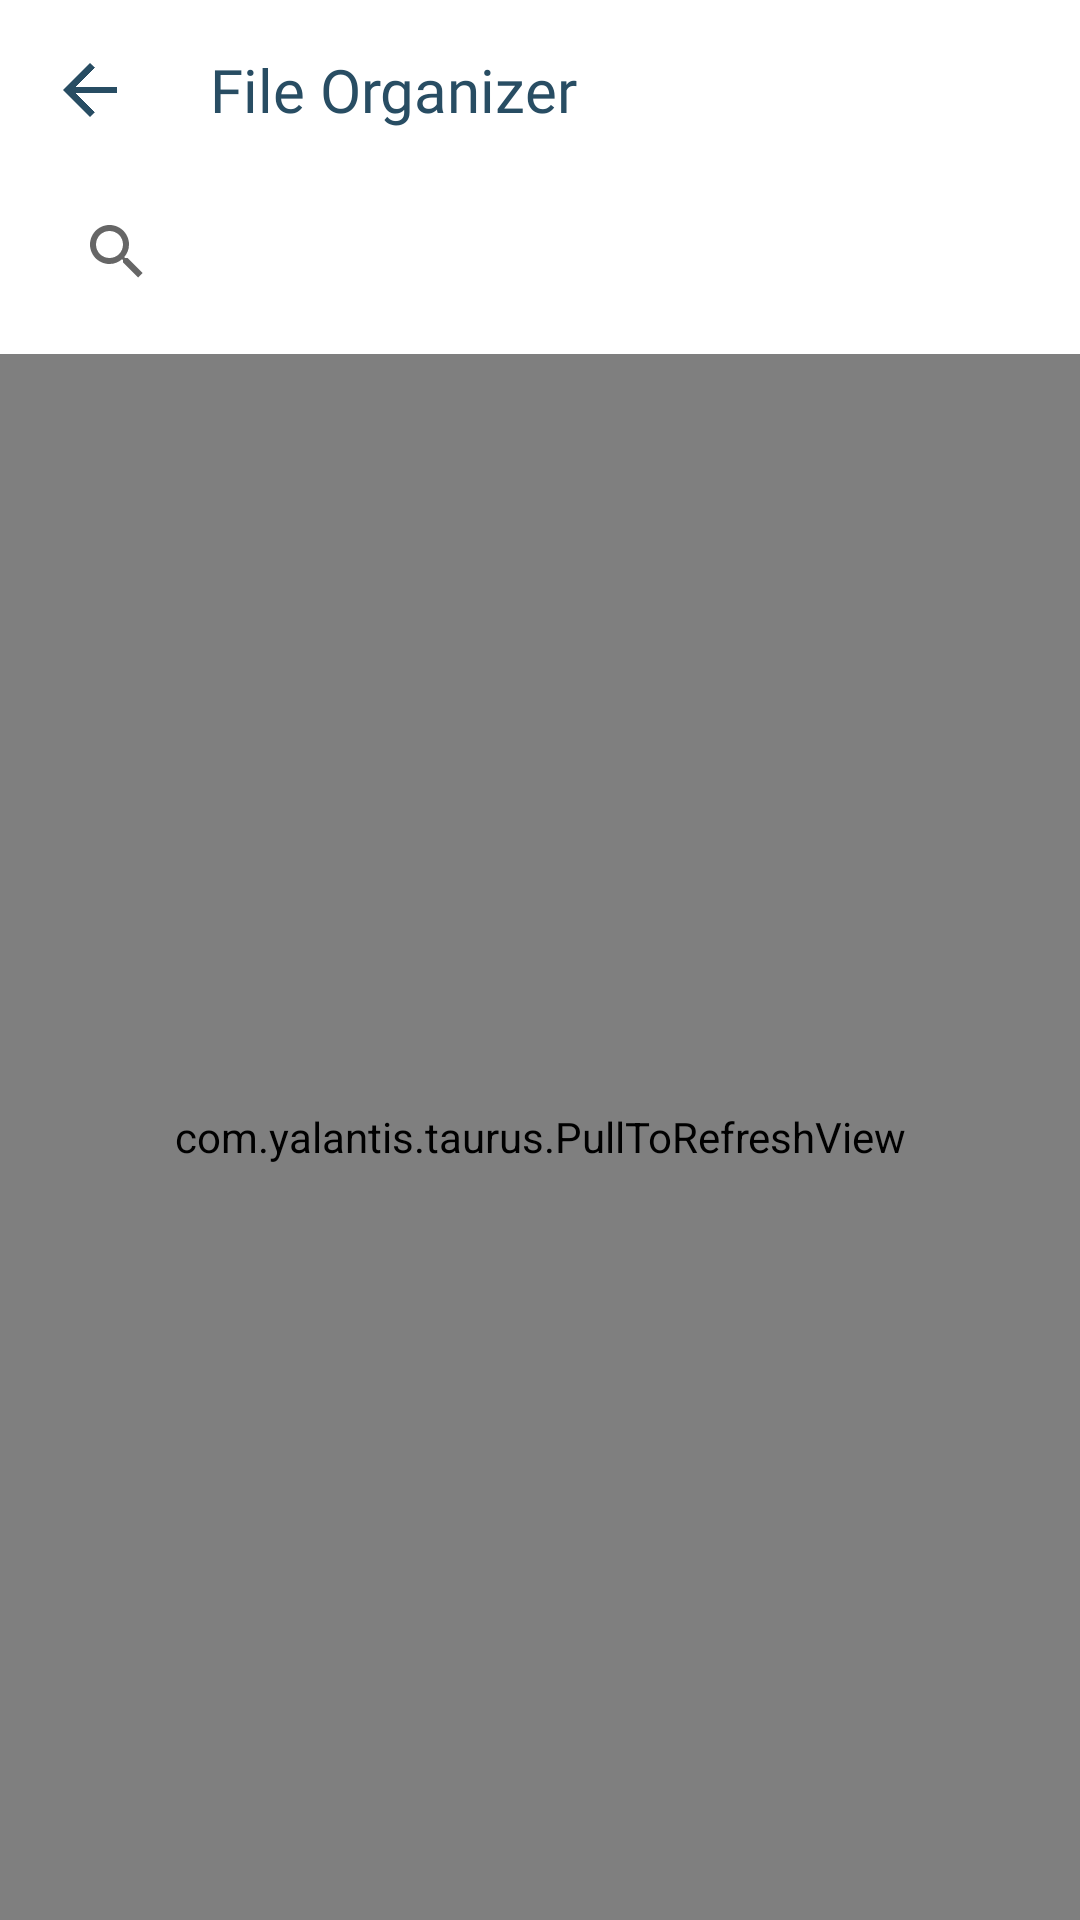

Where to tap for icons on this 1080px x 1920px app screen, as (x,y):
arrow: (90,90)
